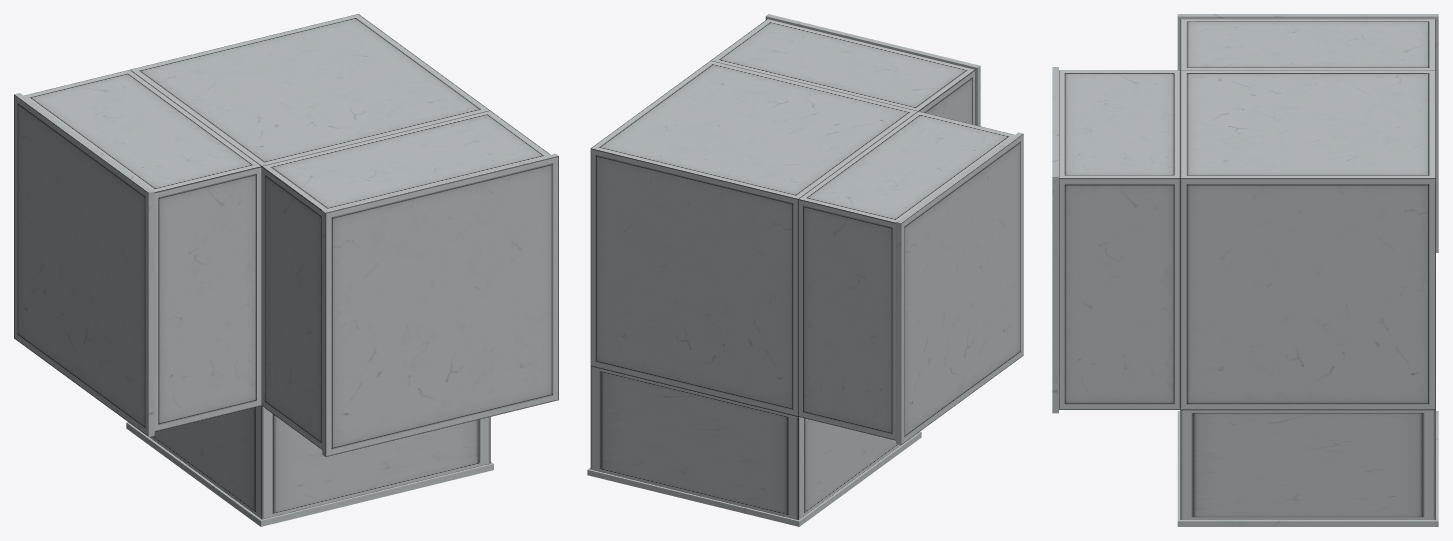
The model's file is Duct_01_3Way_02.FBX.
3 views of the same model, side by side, from view 1: azimuth 30°, elevation 25°; view 2: azimuth 150°, elevation 25°; view 3: azimuth 270°, elevation 25° (orthographic). The views are drawn at different scales.
Parts seen in each view (by area): view 1: Duct_01_3Way_02; view 2: Duct_01_3Way_02; view 3: Duct_01_3Way_02.
Boxes of the visible parts, box(x1,y1,x2,y2) form: Duct_01_3Way_02: box(14, 14, 558, 526); Duct_01_3Way_02: box(587, 14, 1023, 526); Duct_01_3Way_02: box(1052, 14, 1438, 526).
Bounding box in the file's own units: 3.02 × 3.02 × 3.02.
Materials: 1 (1 with a texture image).
